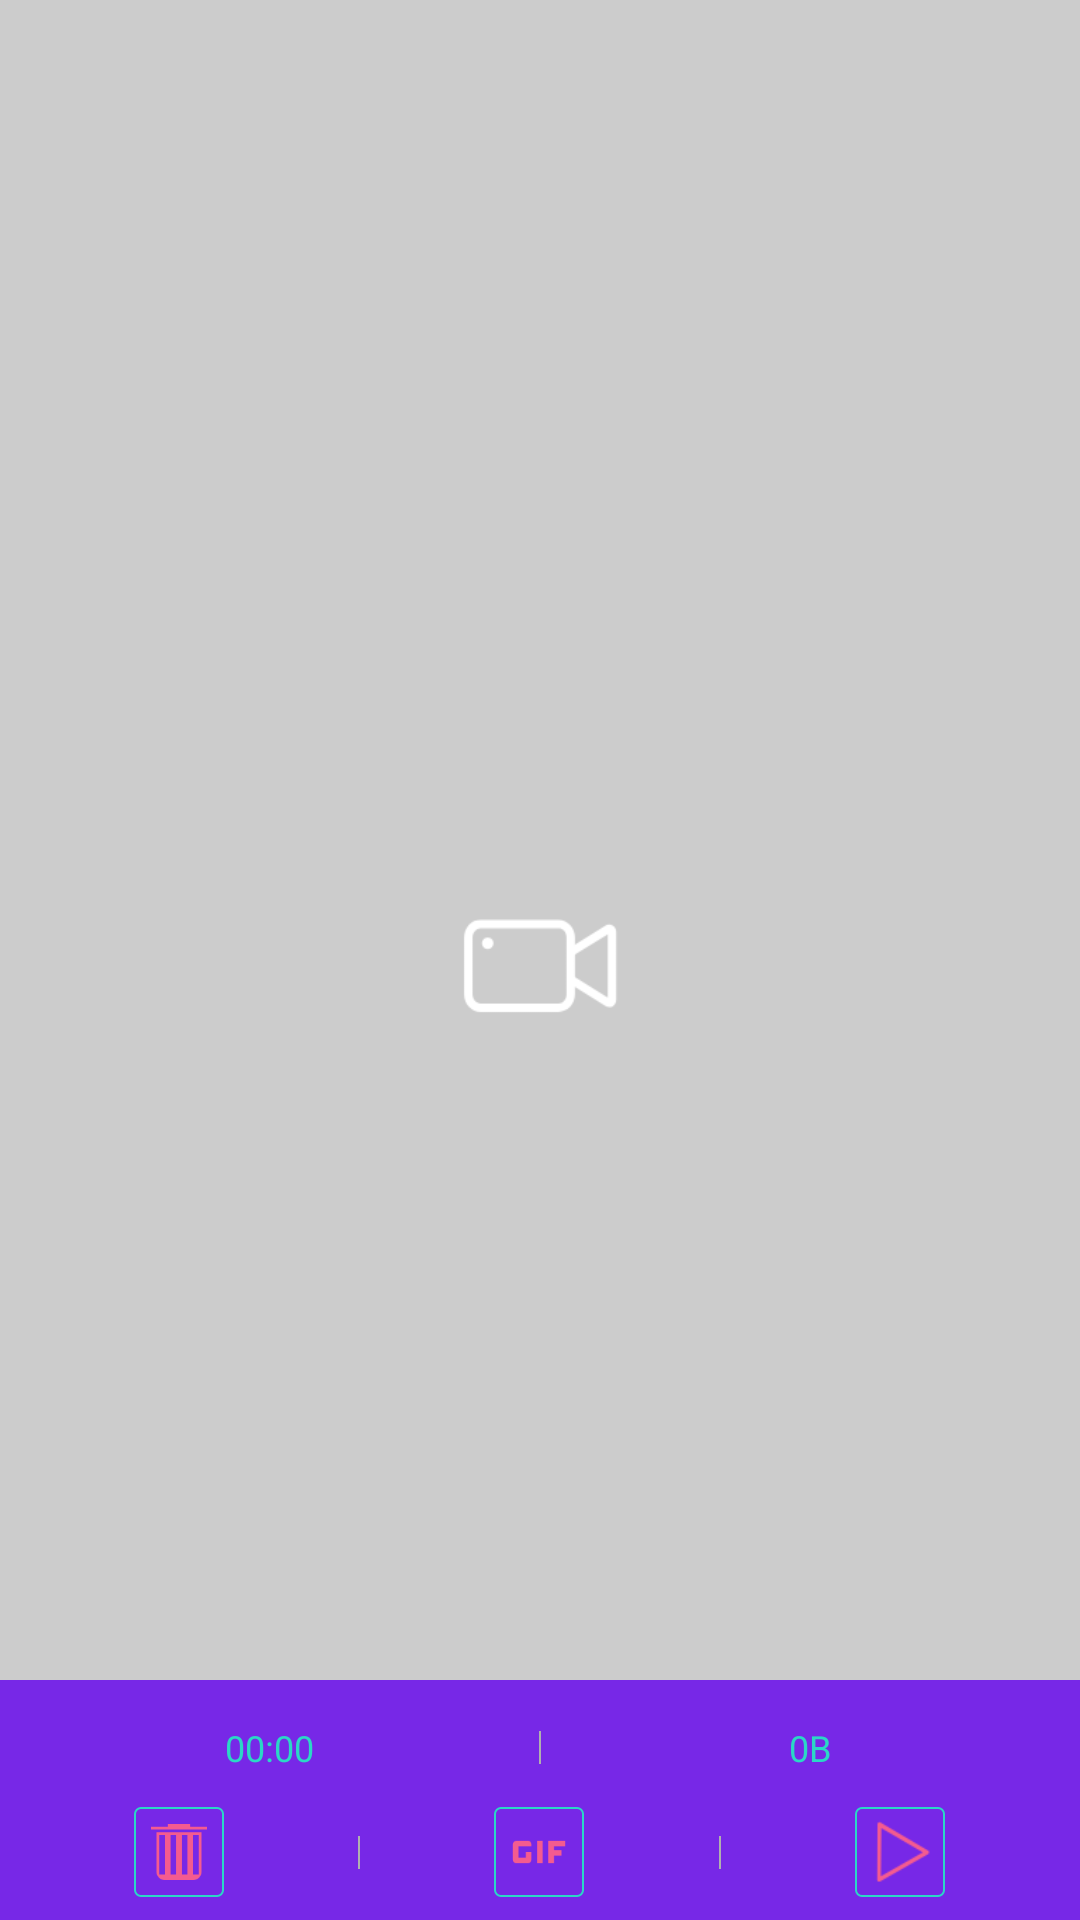

Icon click points for this 1080×1920 phone screenshot, format (x=x, y=y):
delete: (x=179, y=1852)
play: (x=900, y=1852)
record: (x=540, y=966)
